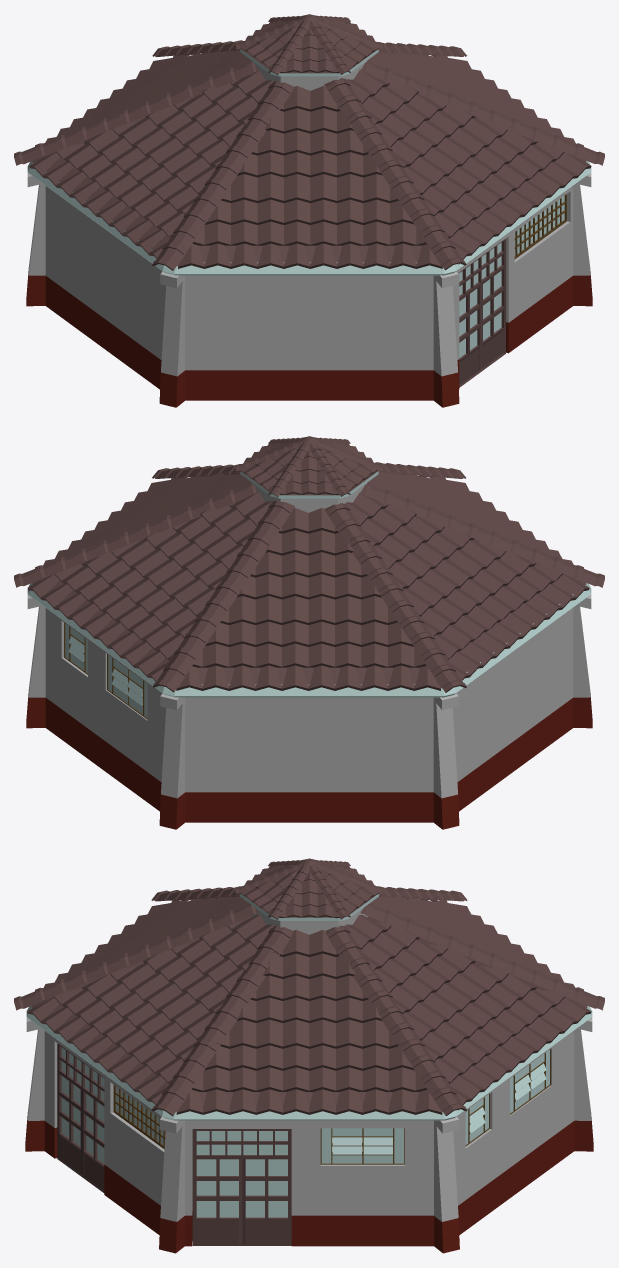
Rendered from CentroCulturalLow (1).fbx.
3 views of the same model, one above another, from view 1: azimuth 30°, elevation 25°; view 2: azimuth 150°, elevation 25°; view 3: azimuth 270°, elevation 25° (orthographic).
Parts seen in each view (by area): view 1: Cylinder.006, Plane.034, Plane.037, Plane.033, BaseTFina.001, PortaGrade2.005, Plane.003, Plane.008, Plane.032, Plane.036, Plane.005, Plane.006 (+10 smaller); view 2: Cylinder.006, Plane.036, Plane.035, Plane.033, BaseTFina.001, Plane.007, Plane.005, Plane.032, Plane.034, Plane.008, Plane.004, JanelaM.005 (+10 smaller); view 3: Cylinder.006, Plane.032, Plane.035, Plane.037, PortaGrade2.006, BaseTFina.001, PortaGrade2.005, Plane.004, Plane.006, Plane.034, Plane.036, Plane.007 (+14 smaller).
Part boxes in pixels (left/top/right/bottom): Cylinder.006: left=26, top=172, right=592, bottom=407; Plane.034: left=178, top=86, right=442, bottom=268; Plane.037: left=346, top=69, right=591, bottom=264; Plane.033: left=29, top=70, right=273, bottom=258; BaseTFina.001: left=27, top=67, right=591, bottom=275; PortaGrade2.005: left=459, top=239, right=505, bottom=387; Plane.003: left=324, top=78, right=466, bottom=270; Plane.008: left=152, top=81, right=294, bottom=270; Plane.032: left=368, top=50, right=575, bottom=143; Plane.036: left=45, top=50, right=250, bottom=142; Plane.005: left=14, top=60, right=258, bottom=165; Plane.006: left=361, top=60, right=604, bottom=165; Cylinder.006: left=26, top=594, right=592, bottom=829; Plane.036: left=176, top=508, right=440, bottom=690; Plane.035: left=27, top=491, right=272, bottom=686; Plane.033: left=345, top=492, right=589, bottom=680; BaseTFina.001: left=27, top=489, right=591, bottom=697; Plane.007: left=152, top=500, right=294, bottom=692; Plane.005: left=324, top=503, right=466, bottom=692; Plane.032: left=43, top=472, right=250, bottom=565; Plane.034: left=368, top=472, right=573, bottom=564; Plane.008: left=360, top=482, right=604, bottom=587; Plane.004: left=14, top=482, right=257, bottom=587; JanelaM.005: left=107, top=654, right=147, bottom=719; Cylinder.006: left=25, top=1017, right=593, bottom=1253; Plane.032: left=176, top=930, right=442, bottom=1114; Plane.035: left=345, top=915, right=591, bottom=1110; Plane.037: left=27, top=915, right=273, bottom=1110; PortaGrade2.006: left=192, top=1129, right=291, bottom=1245; BaseTFina.001: left=26, top=901, right=592, bottom=1120; PortaGrade2.005: left=57, top=1043, right=104, bottom=1192; Plane.004: left=325, top=925, right=467, bottom=1116; Plane.006: left=151, top=925, right=293, bottom=1116; Plane.034: left=44, top=896, right=247, bottom=987; Plane.036: left=371, top=896, right=574, bottom=986; Plane.007: left=360, top=902, right=604, bottom=1010.
Size of the model in its own units: 481 by 294 by 545.
